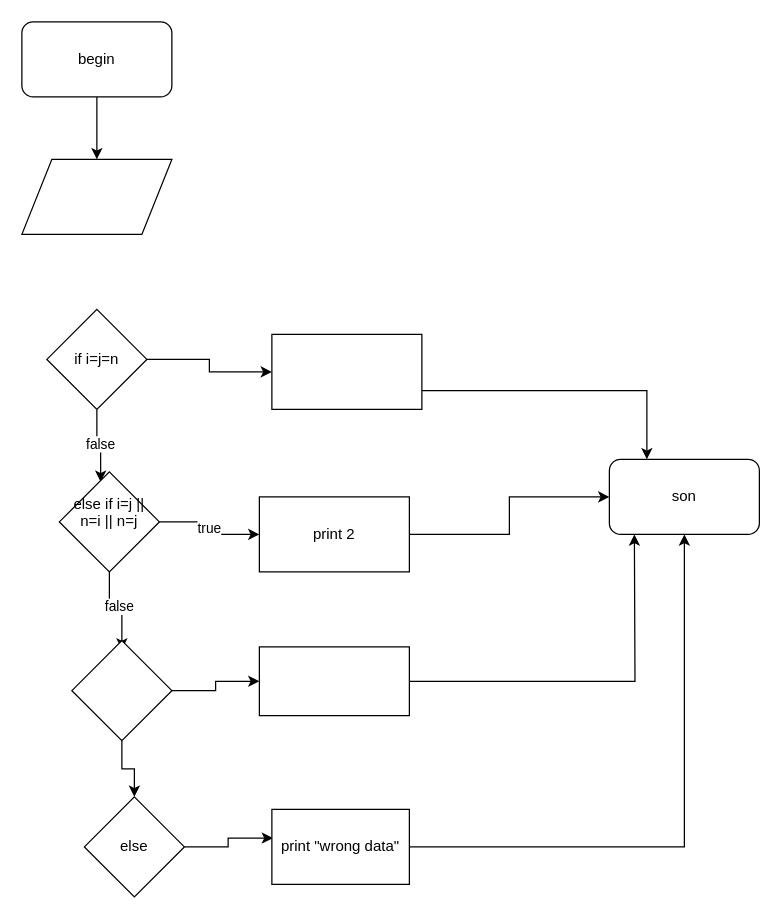
The diagram is 781 pixels wide and 919 high, and some of its shapes have lost their labels. The shapes that lost their labels are listed below. From the top down, each one's box as (x1, y1, x2, y2) in pixels, then its label:
(21, 158, 172, 234): i, j , n
(271, 333, 422, 409): print 1
(71, 639, 172, 741): else if i!=j && j!=n
(258, 646, 409, 716): print 3
